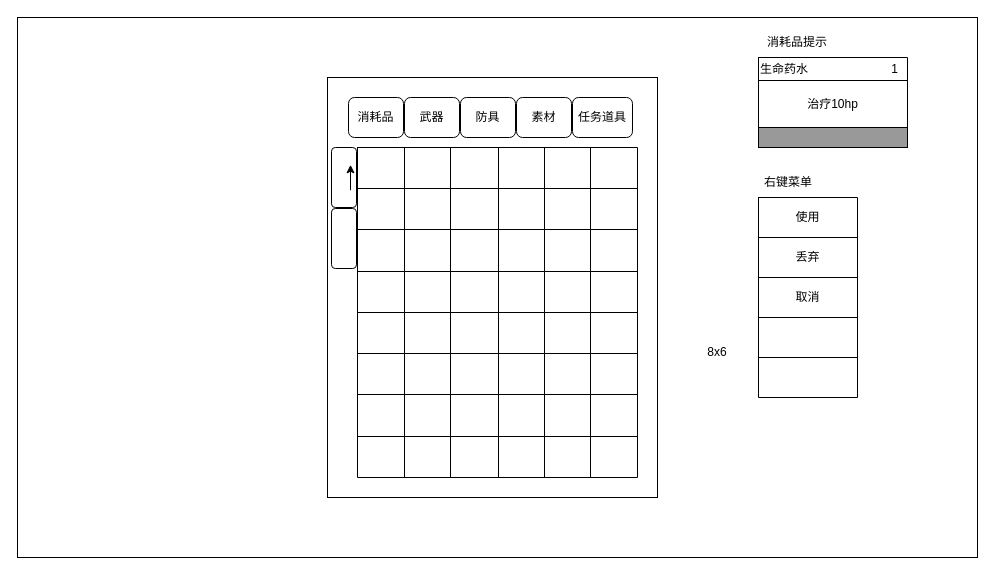
Some shapes in this 995 by 575 pixel diagram are drawn without their labels. Each missing label, with the centre of its shape:
——相传是神流的血: (833,137)
名称: (343,177)
获取时间: (343,238)
